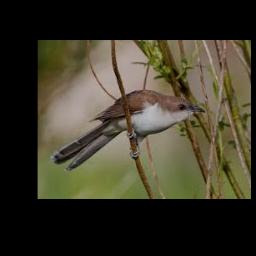Cuckoo: (49, 89, 205, 171)
